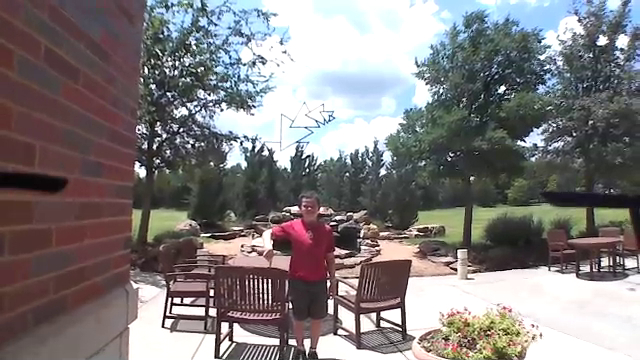down: (260, 244, 278, 268)
